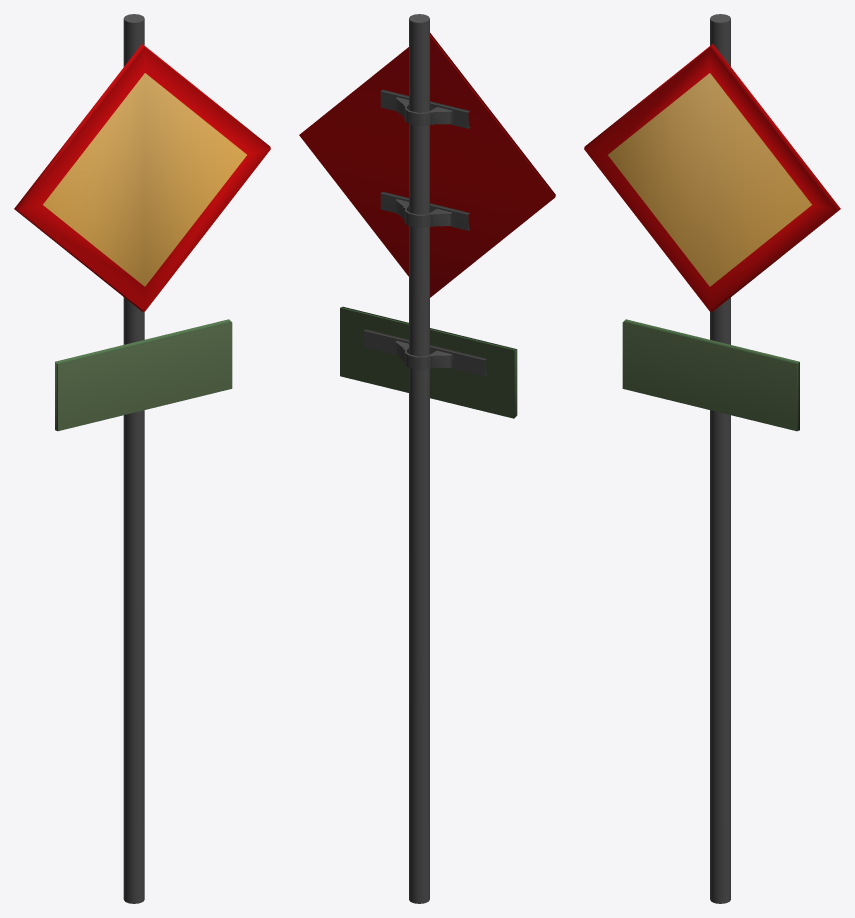
The model's file is LosangTrafficSign_Sign.fbx.
3 views of the same model, side by side, from view 1: azimuth 30°, elevation 25°; view 2: azimuth 150°, elevation 25°; view 3: azimuth 330°, elevation 25° (orthographic).
Visible parts, largest first — view 1: LosangTrafficSign_Sign; view 2: LosangTrafficSign_Sign; view 3: LosangTrafficSign_Sign.
Part boxes in pixels (x1=…): LosangTrafficSign_Sign: x1=14, y1=14, x2=270, y2=903; LosangTrafficSign_Sign: x1=299, y1=14, x2=555, y2=903; LosangTrafficSign_Sign: x1=584, y1=14, x2=840, y2=903.
Size of the model in its own units: 78.11 by 257 by 9.07.
